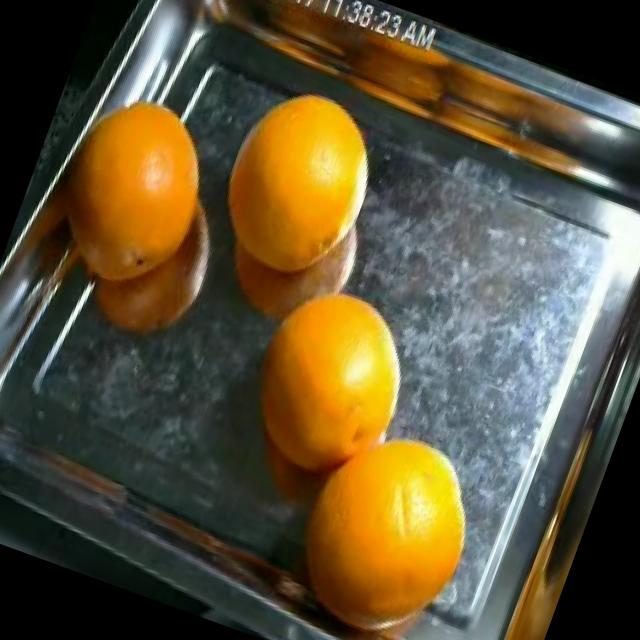Fruit: (204, 240, 452, 505), (184, 51, 397, 300)
